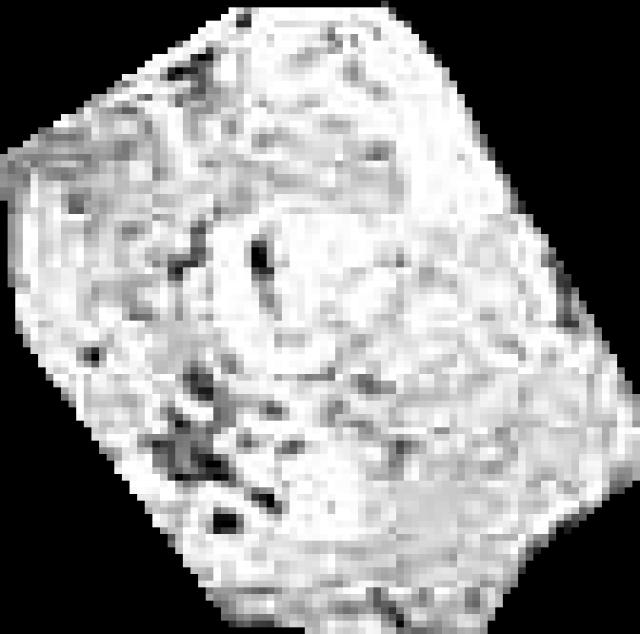tumor_moderate_chance: (0, 1, 640, 634)
